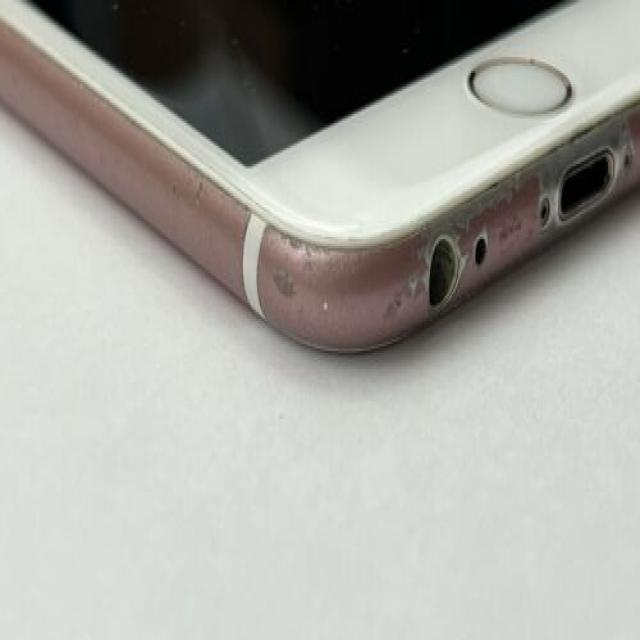Dents: (413, 185, 525, 318), (530, 131, 621, 259), (376, 283, 404, 355), (268, 260, 303, 303), (185, 182, 220, 211)
